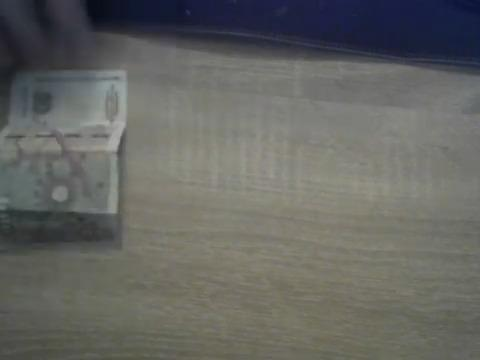10leva: (0, 70, 128, 250)
